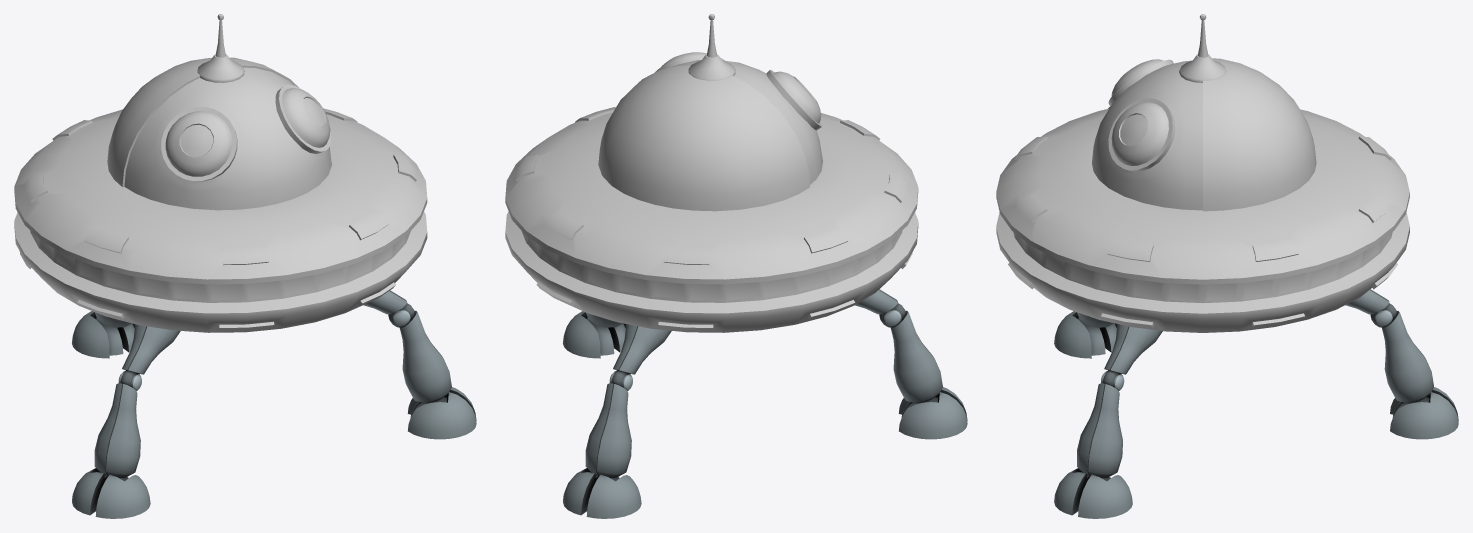
Rendered from UFOs_06.fbx.
3 renders of one model, left to right at view 1: azimuth 30°, elevation 25°; view 2: azimuth 150°, elevation 25°; view 3: azimuth 270°, elevation 25°, orthographic.
Visible parts, largest first — view 1: UFO.06.02, UFO.06.02_Leg, UFO.06.02_Leg.002, UFO.06.02_Leg.003; view 2: UFO.06.02, UFO.06.02_Leg.003, UFO.06.02_Leg, UFO.06.02_Leg.002; view 3: UFO.06.02, UFO.06.02_Leg.002, UFO.06.02_Leg.003, UFO.06.02_Leg.
Part boxes in pixels (box(x1,y1,x2,y2)): UFO.06.02: box(14, 14, 427, 332); UFO.06.02_Leg: box(72, 324, 180, 518); UFO.06.02_Leg.002: box(363, 290, 476, 439); UFO.06.02_Leg.003: box(72, 311, 135, 358); UFO.06.02: box(505, 14, 918, 332); UFO.06.02_Leg.003: box(563, 324, 671, 518); UFO.06.02_Leg: box(855, 289, 967, 439); UFO.06.02_Leg.002: box(563, 311, 626, 358); UFO.06.02: box(996, 14, 1409, 332); UFO.06.02_Leg.002: box(1054, 324, 1162, 518); UFO.06.02_Leg.003: box(1345, 289, 1458, 439); UFO.06.02_Leg: box(1054, 311, 1117, 358).
Bounding box in the file's own units: 523 × 517 × 531.
